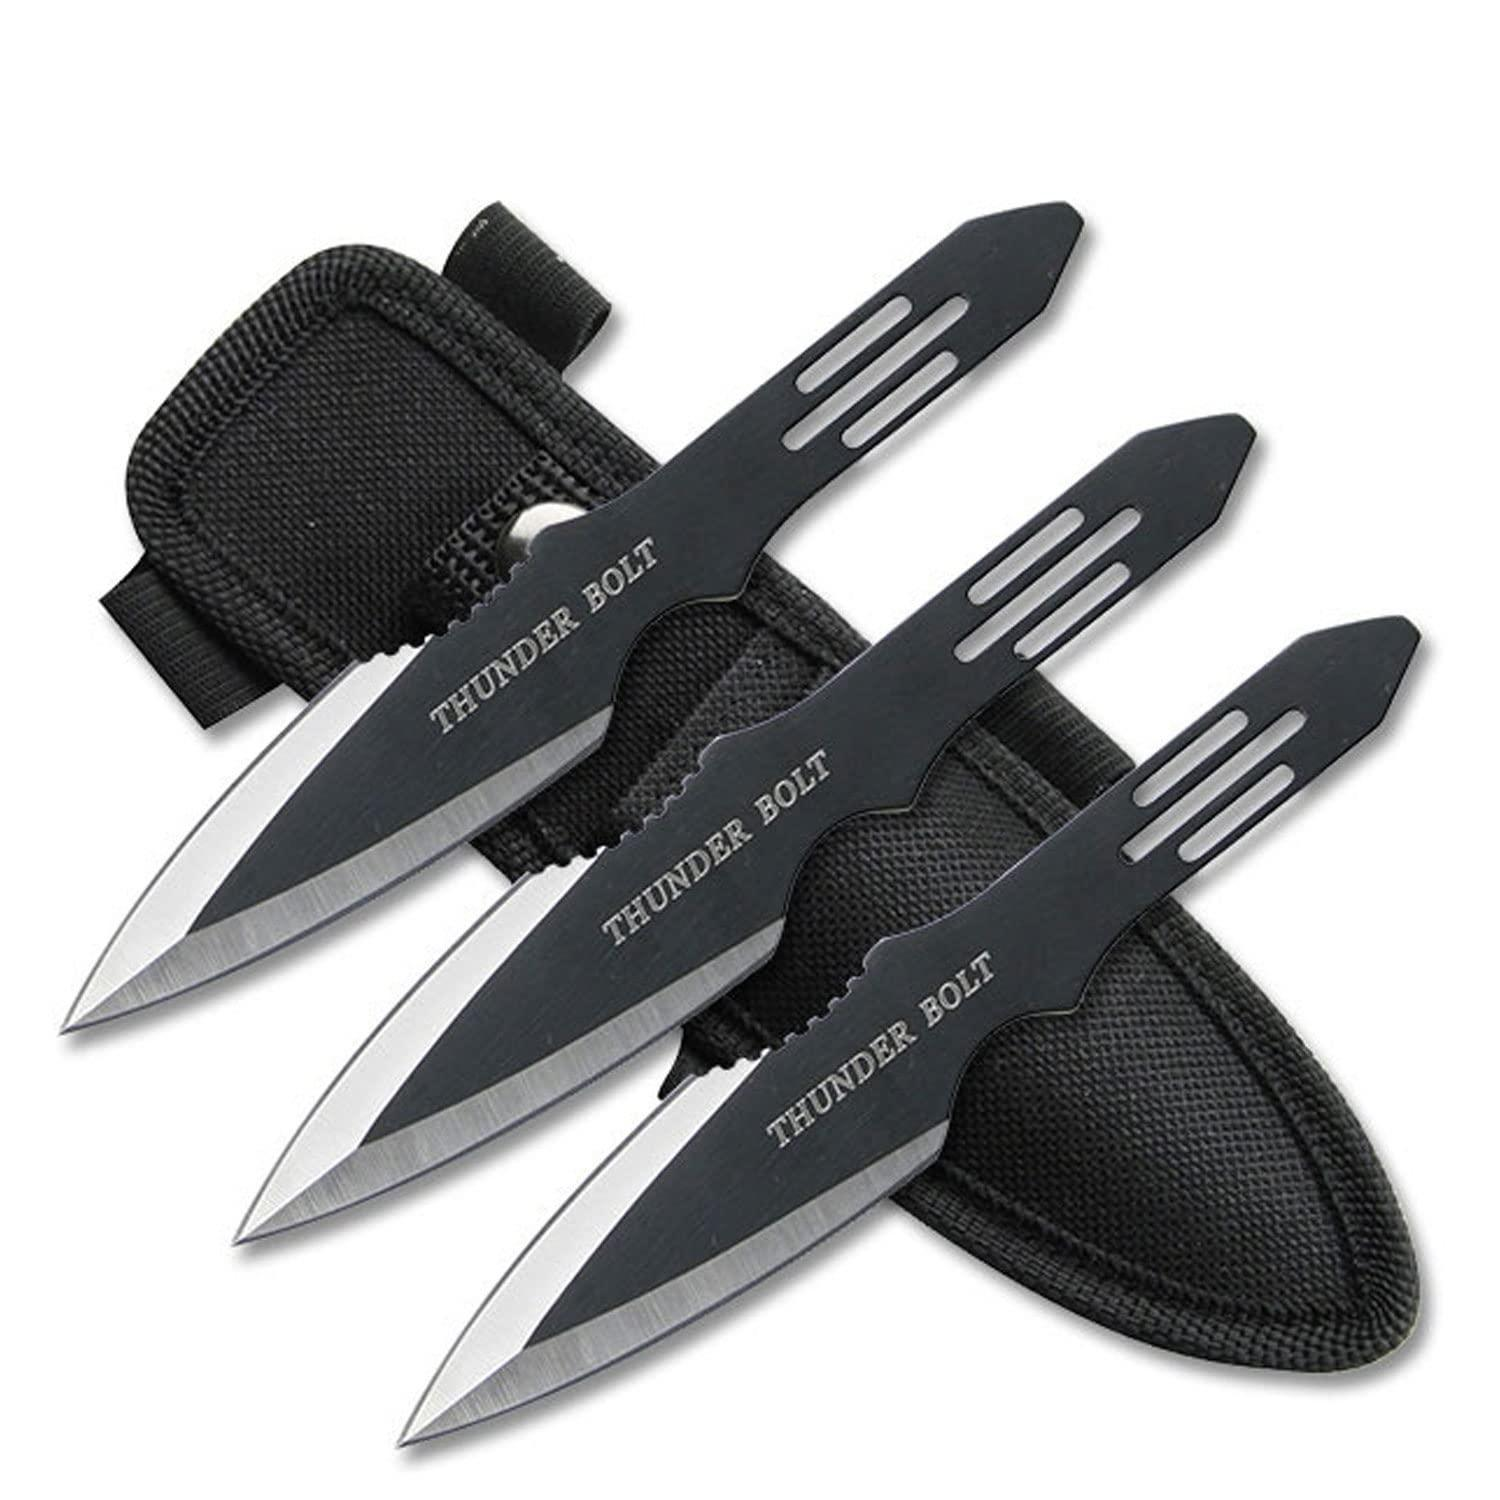faca: (62, 203, 1082, 1032), (401, 615, 1418, 1444), (249, 415, 1254, 1235)
